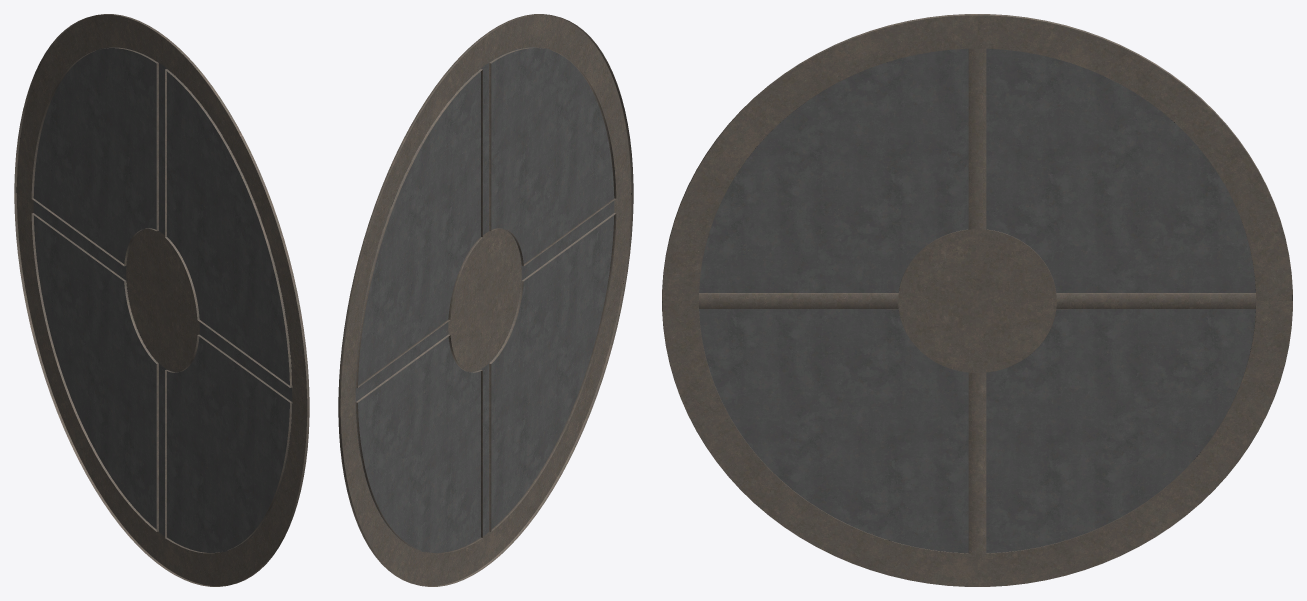
The model's file is cP_FountainAreaCircle02.dae.
The picture shows the model from 3 angles, left to right: view 1: azimuth 30°, elevation 25°; view 2: azimuth 150°, elevation 25°; view 3: azimuth 270°, elevation 25°; orthographic projection. The views are drawn at different scales.
Parts seen in each view (by area): view 1: cP_FountainAreaCircle02.001; view 2: cP_FountainAreaCircle02.001; view 3: cP_FountainAreaCircle02.001.
Boxes of the visible parts, x1=… form: cP_FountainAreaCircle02.001: x1=14, y1=14, x2=309, y2=586; cP_FountainAreaCircle02.001: x1=338, y1=14, x2=633, y2=586; cP_FountainAreaCircle02.001: x1=662, y1=14, x2=1292, y2=586.
Size of the model in its own units: 0.0763 by 15.96 by 15.96.
